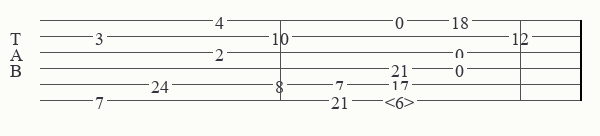0: (395, 12, 408, 28), (455, 44, 468, 60), (455, 60, 468, 76)
10: (271, 28, 293, 44)
12: (511, 28, 533, 44)
17: (391, 76, 413, 92)
18: (451, 12, 473, 28)
2: (215, 44, 228, 60)
21: (331, 92, 353, 108), (391, 60, 413, 76)
24: (151, 76, 173, 92)
3: (95, 28, 108, 44)
4: (215, 12, 228, 28)
7: (95, 92, 108, 108), (335, 76, 348, 92)
8: (275, 76, 288, 92)
harmonic: (385, 92, 418, 108)
